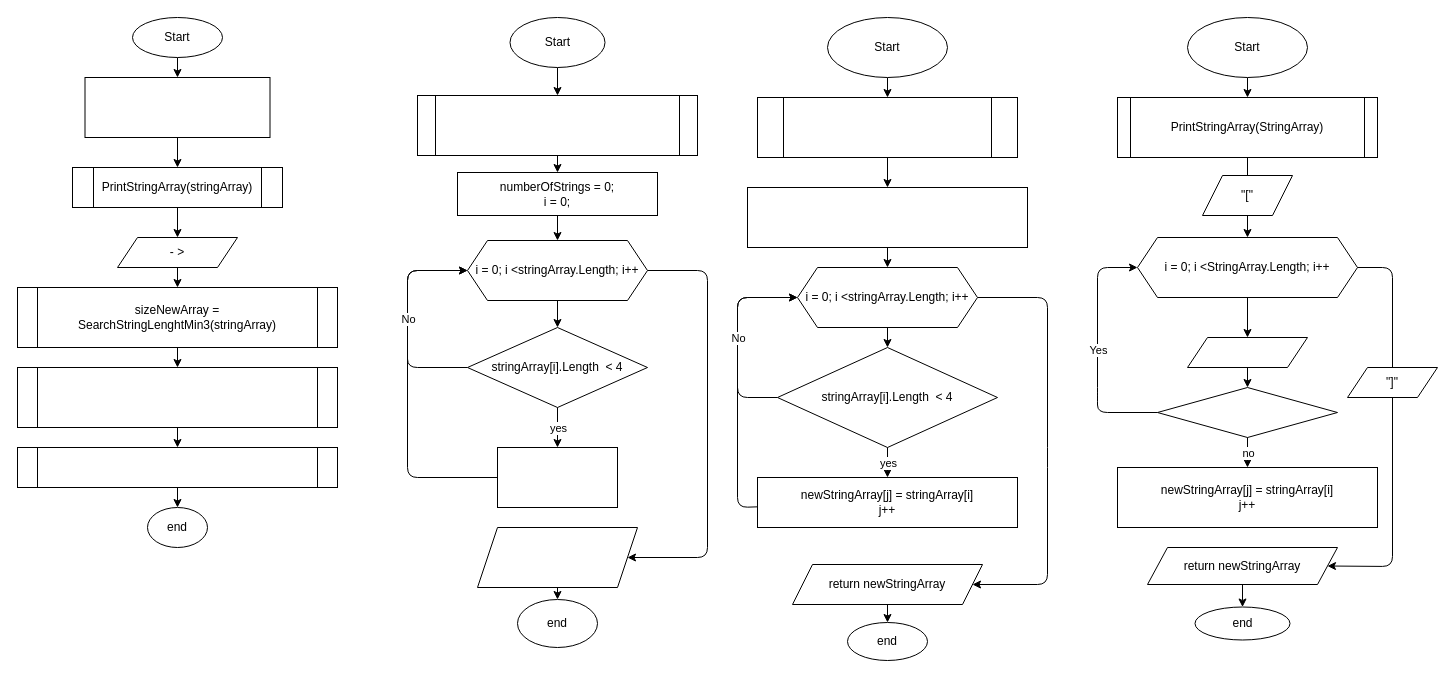
This 1455x678 diagram has some shape labels left out. Here are the shapes that lost their labels. From the top down, the centre of each, then its label:
pixel 177 107: stringArray = ["hello", "2", "world", ":-)"]
pixel 557 125: sizeNewArray = SearchStringLenghtMin(stringArray)
pixel 887 127: CreateArrayWithLenghtMin3 = (stringArray, sizeNewArray)
pixel 887 217: string[] newStringArray = new string [sizeNewArray] j = 0
pixel 1247 352: "stringArray[i]"
pixel 177 397: newStringArray = CreateArrayWith LenghtMin3 (stringArray, sizeNewArray)
pixel 1247 412: i == stringArray.Length -1
pixel 177 467: PrintArray (newStringArray)
pixel 557 477: numberOfStrings++
pixel 557 557: return numberOfStrings
